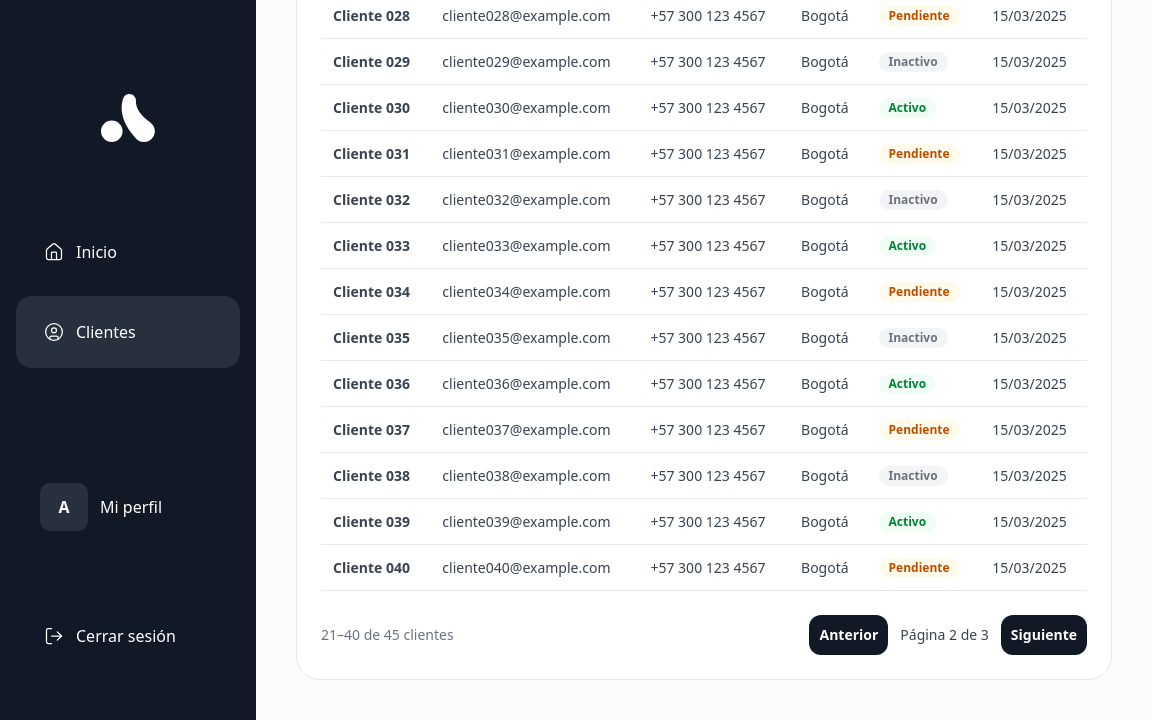
ServiceClientsPage › paginación › "Anterior" vuelve a la página anterior
The width and height of the screenshot is (1152, 720).
(page scrolled)
Click the button "Anterior" at (849, 635), box [810,615,888,655]
(page scrolled)
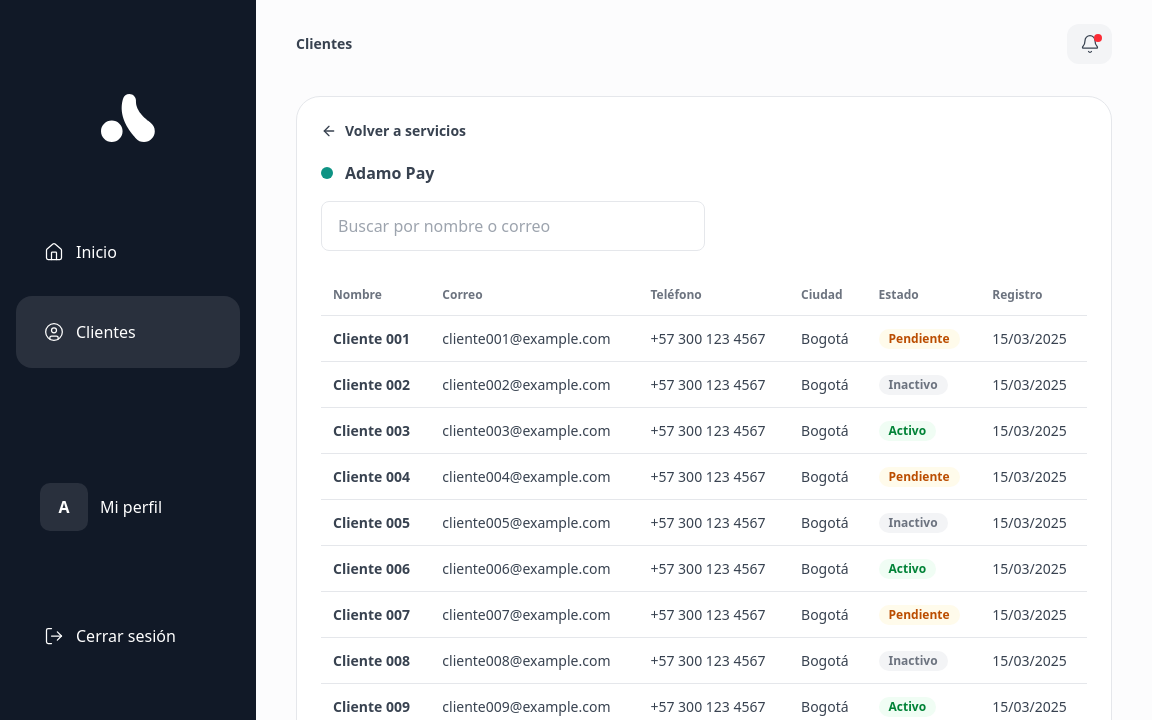
Expected: the column heading "Cliente 001" is shown, [321,316,430,362]
